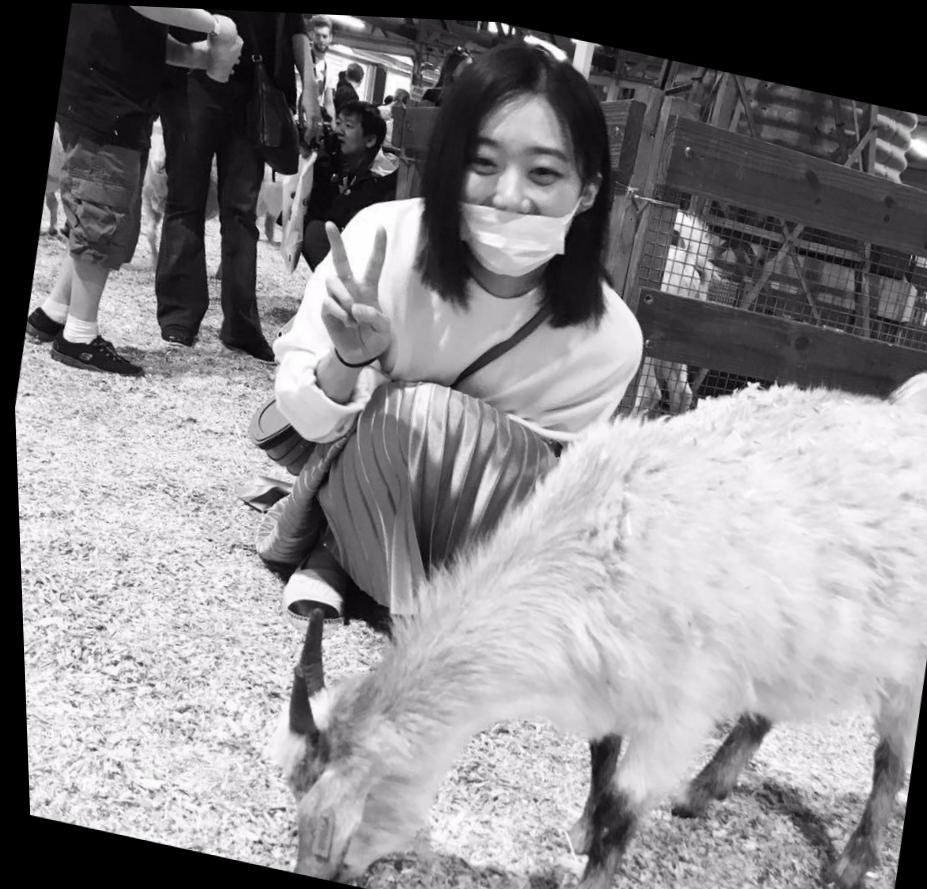NONE: (327, 108, 373, 153), (311, 25, 334, 50)
WRONG: (426, 102, 596, 283)
